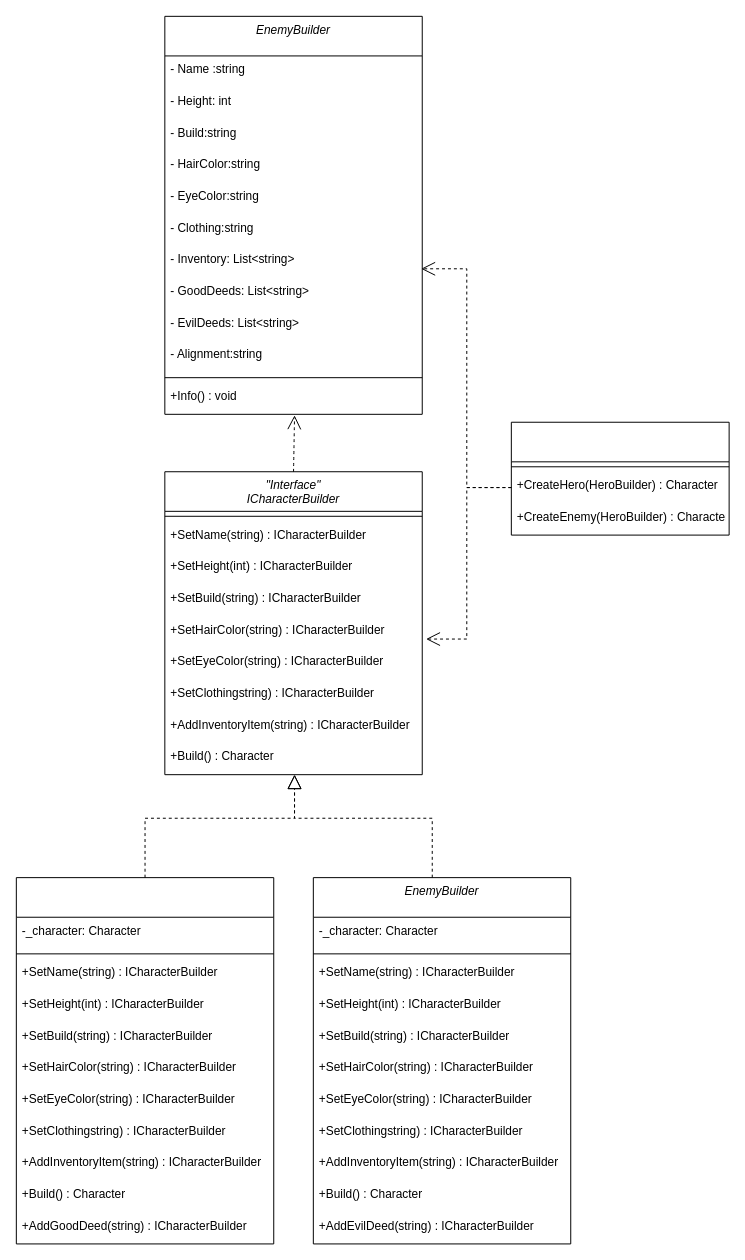
The diagram is 745 pixels wide and 1260 high, and some of its shapes have lost their labels. Each missing label, with the box of its shape:
CharacterDirector: (510, 421, 729, 535)
HeroBuilder: (15, 877, 274, 1244)
